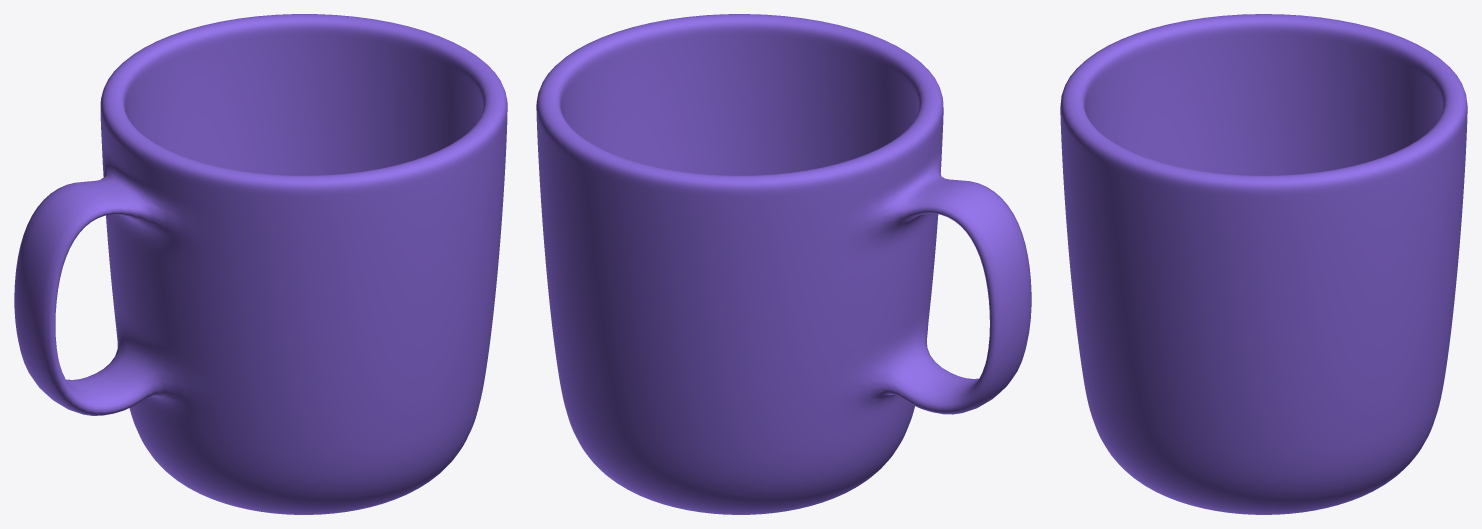
File: TeaCup.fbx
3 renders of one model, left to right at view 1: azimuth 30°, elevation 25°; view 2: azimuth 150°, elevation 25°; view 3: azimuth 270°, elevation 25°, orthographic.
Parts seen in each view (by area): view 1: BezierCurve; view 2: BezierCurve; view 3: BezierCurve.
Part boxes in pixels (x1,y1,x2,y2): BezierCurve: [14, 14, 507, 514]; BezierCurve: [536, 14, 1031, 514]; BezierCurve: [1060, 14, 1467, 514].
Size of the model in its own units: 151 by 121 by 117.
